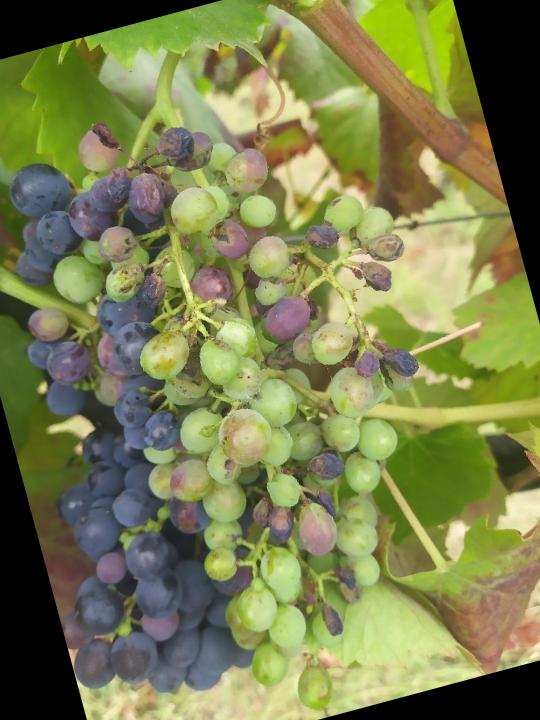grape: (0, 53, 514, 720)
